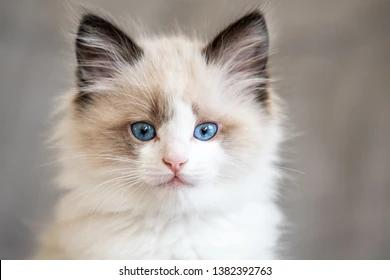ragdoll: (53, 1, 287, 218)
